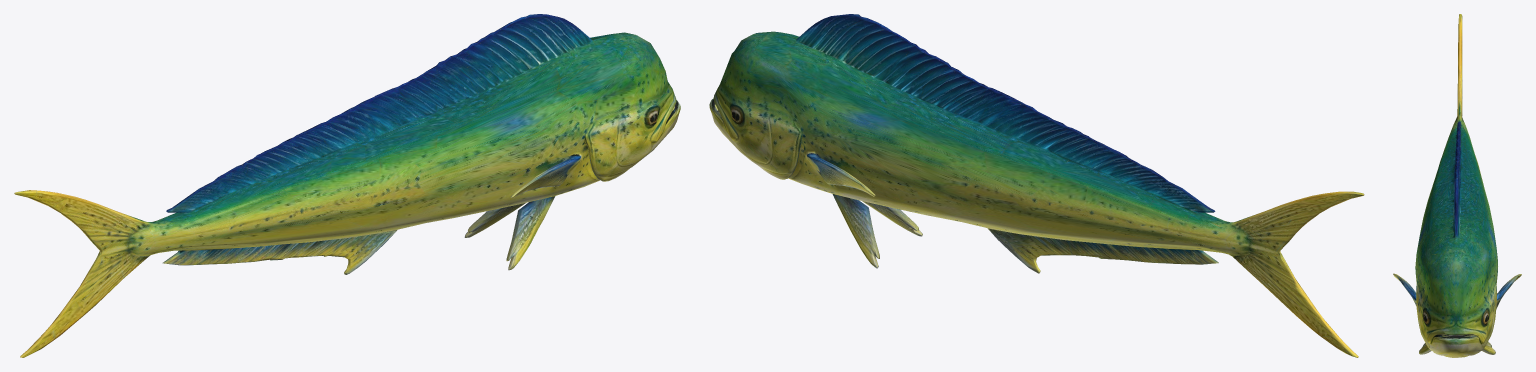
File: mahi.glb
3 views of the same model, side by side, from view 1: azimuth 30°, elevation 25°; view 2: azimuth 150°, elevation 25°; view 3: azimuth 270°, elevation 25° (orthographic). The views are drawn at different scales.
Bounding box in the file's own units: 1 × 0.3316 × 0.201.
1 material, 1 textured.
